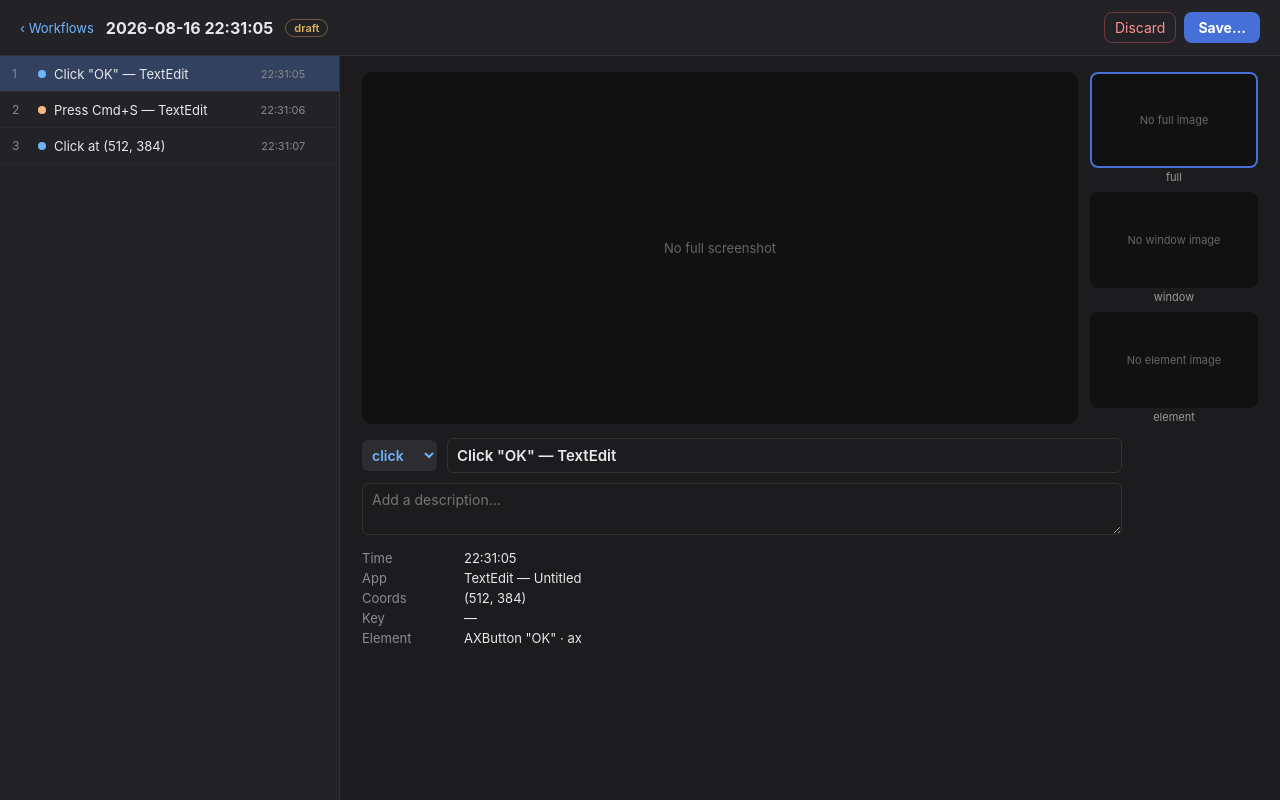
it: draft review › keeps draft state and the dialog error visible when the rename fails
This screenshot has width=1280, height=800.
Expected: the text "Click \"OK\" — TextEdit" is shown, [54,66,189,82]
Click the button "Save…" at (1222,28), box [1184,12,1260,43]
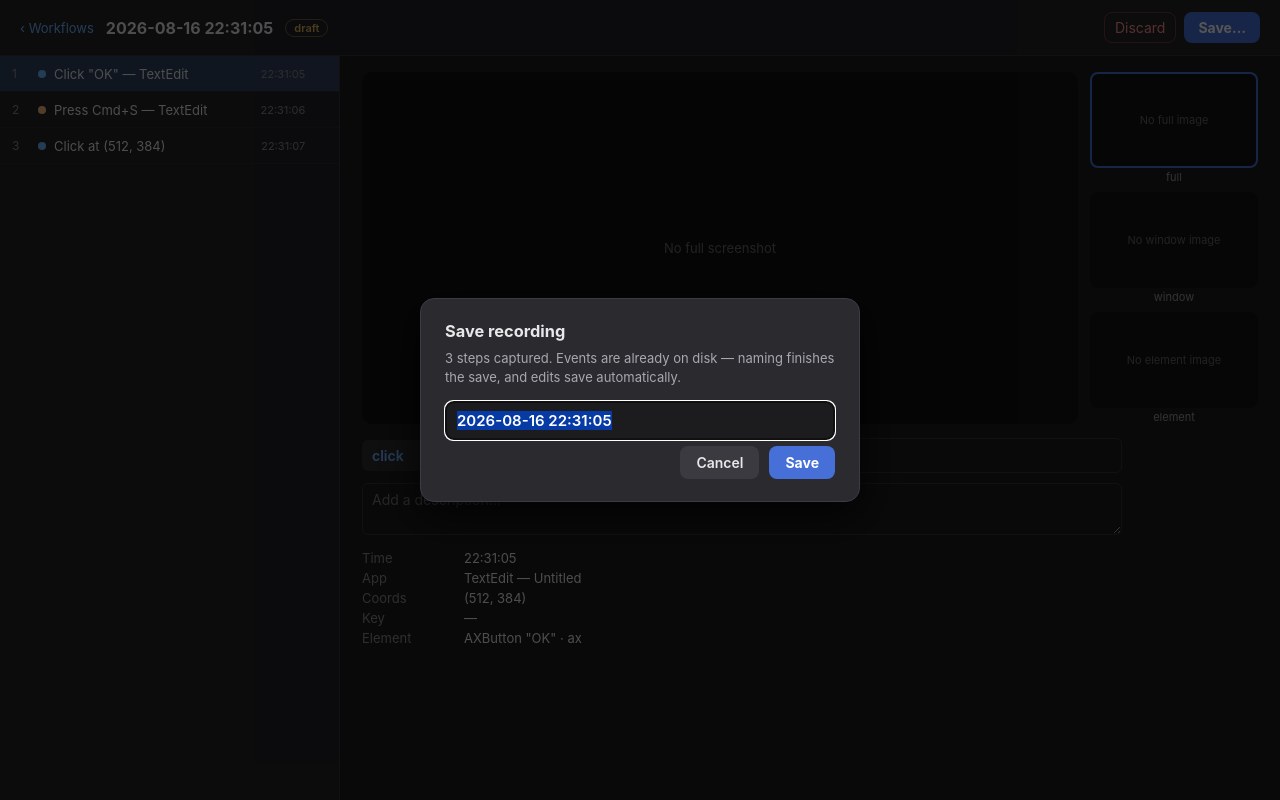
Click the button "Save" at (802,462), box [770,446,835,479]
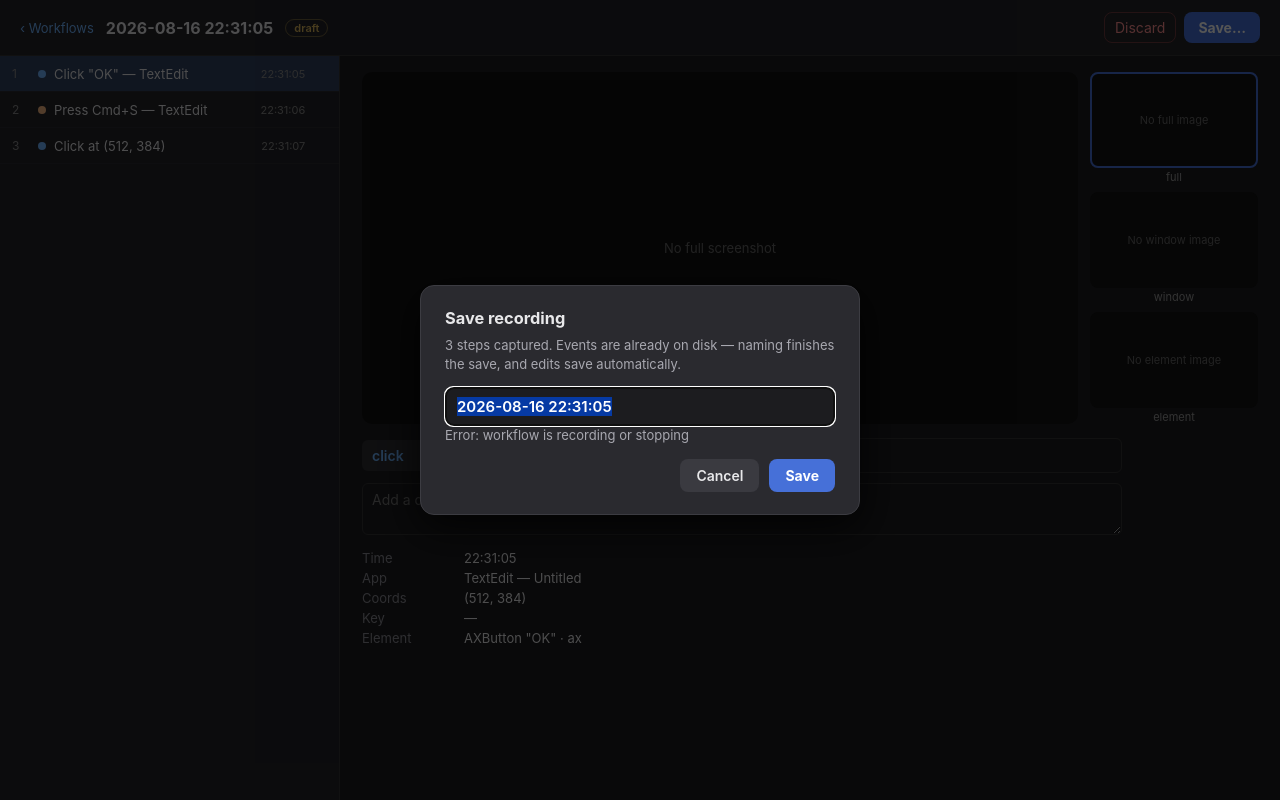
Expected: the text "draft" is shown, [285,18,328,36]
Now the field named "Recording name" is shown, box [445,387,835,426]
Now the message shows "workflow is recording or stopping", box [445,427,689,443]
